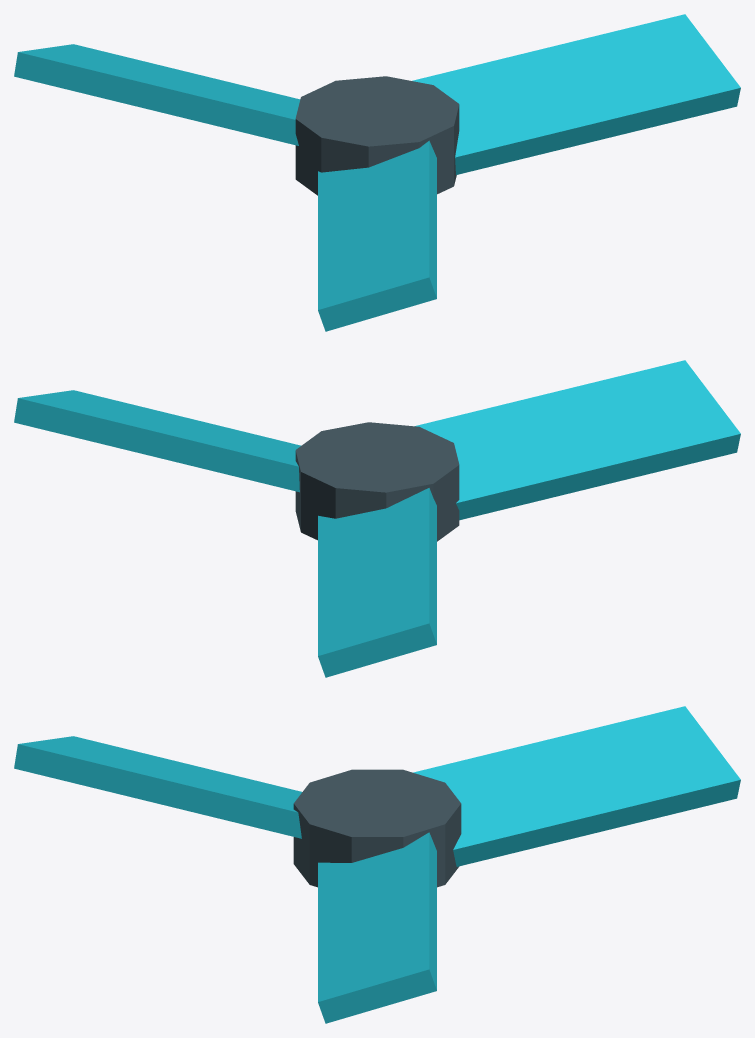
The model's file is Spin_Ayran.fbx.
3 renders of one model, top to bottom at view 1: azimuth 30°, elevation 25°; view 2: azimuth 150°, elevation 25°; view 3: azimuth 270°, elevation 25°, orthographic.
Visible parts, largest first — view 1: Spin_Ayran; view 2: Spin_Ayran; view 3: Spin_Ayran.
Part boxes in pixels (x1,y1,x2,y2): Spin_Ayran: [14, 14, 740, 331]; Spin_Ayran: [14, 360, 740, 677]; Spin_Ayran: [14, 706, 740, 1023].
Bounding box in the file's own units: 37.58 × 4 × 43.4.
